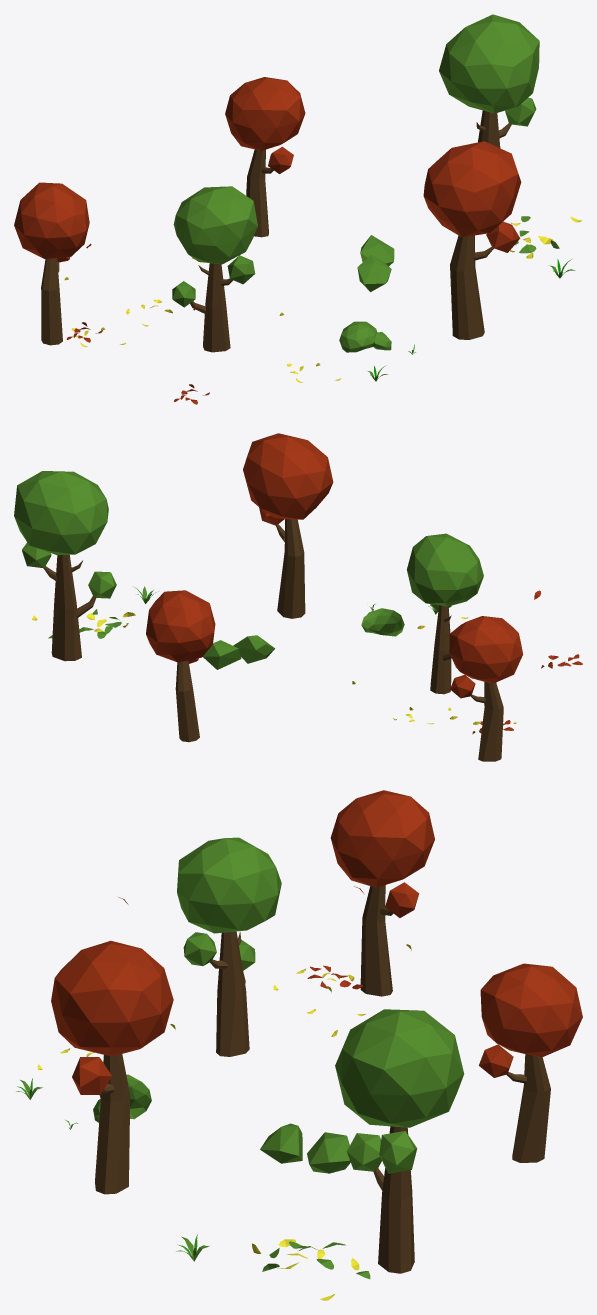
The model's file is forest-decoration.glb.
The picture shows the model from 3 angles, top to bottom: view 1: azimuth 30°, elevation 25°; view 2: azimuth 150°, elevation 25°; view 3: azimuth 270°, elevation 25°; orthographic projection. The views are drawn at different scales.
Parts seen in each view (by area): view 1: tree1004, tree, tree002, tree1003, tree1002, bush1, bush2, leaf; view 2: tree, tree1004, tree1002, tree002, tree1003, bush1, bush2, leaf; view 3: tree, tree1004, tree002, tree1003, tree1002, bush1, leaf, bush2.
Boxes of the visible parts, x1,y1,x2,y2 form: tree1004: (423,141,521,339); tree: (439,14,539,147); tree002: (172,186,257,352); tree1003: (225,77,305,237); tree1002: (14,182,89,345); bush1: (357,235,394,291); bush2: (339,321,391,352); leaf: (510,216,582,258); tree: (14,471,116,661); tree1004: (243,433,333,618); tree1002: (449,616,523,761); tree002: (407,533,483,694); tree1003: (146,590,215,742); bush1: (203,635,274,669); bush2: (361,608,404,636); leaf: (32,609,135,638); tree: (335,1009,464,1273); tree1004: (51,940,173,1194); tree002: (177,837,281,1056); tree1003: (479,963,582,1162); tree1002: (330,790,434,996); bush1: (260,1123,350,1173); leaf: (252,1239,370,1300); bush2: (93,1074,151,1122).
Size of the model in its own units: 21.95 by 7.87 by 15.32.
